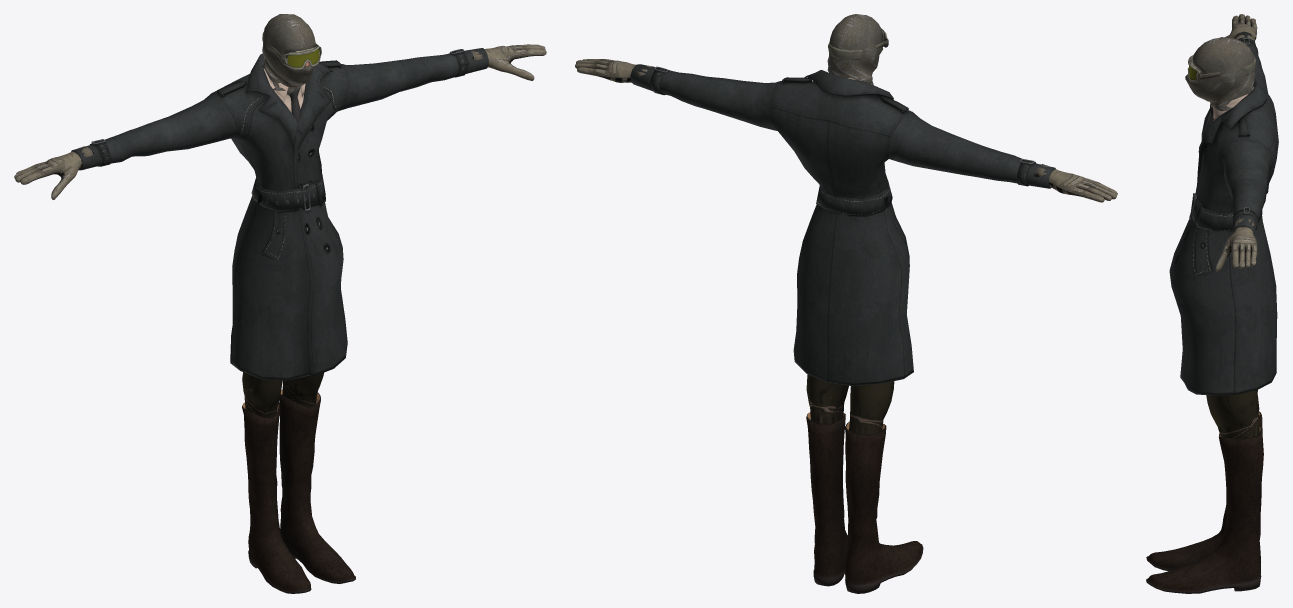
The model's file is Enemy.obj.
3 renders of one model, left to right at view 1: azimuth 30°, elevation 25°; view 2: azimuth 150°, elevation 25°; view 3: azimuth 270°, elevation 25°, orthographic. The views are drawn at different scales.
Visible parts, largest first — view 1: Tops, Shoes, Masks, Gloves, Bottoms, Eyewear; view 2: Tops, Shoes, Bottoms, Masks, Gloves; view 3: Tops, Shoes, Masks, Bottoms, Gloves, Eyewear.
Part boxes in pixels (box(x1,y1,x2,y2)): Tops: box(71, 48, 488, 380); Shoes: box(242, 389, 355, 593); Masks: box(262, 14, 316, 95); Gloves: box(14, 44, 546, 199); Bottoms: box(242, 372, 323, 417); Eyewear: box(262, 32, 321, 69); Tops: box(630, 64, 1055, 386); Shoes: box(806, 412, 923, 593); Bottoms: box(806, 375, 894, 434); Masks: box(827, 14, 882, 84); Gloves: box(575, 59, 1117, 202); Tops: box(1169, 31, 1278, 395); Shoes: box(1146, 411, 1263, 593); Masks: box(1185, 37, 1255, 111); Bottoms: box(1206, 390, 1259, 438); Gloves: box(1215, 14, 1257, 271); Eyewear: box(1187, 55, 1255, 82).
Bounding box in the file's own units: 207 × 204 × 45.7.
7 materials, 7 textured.
